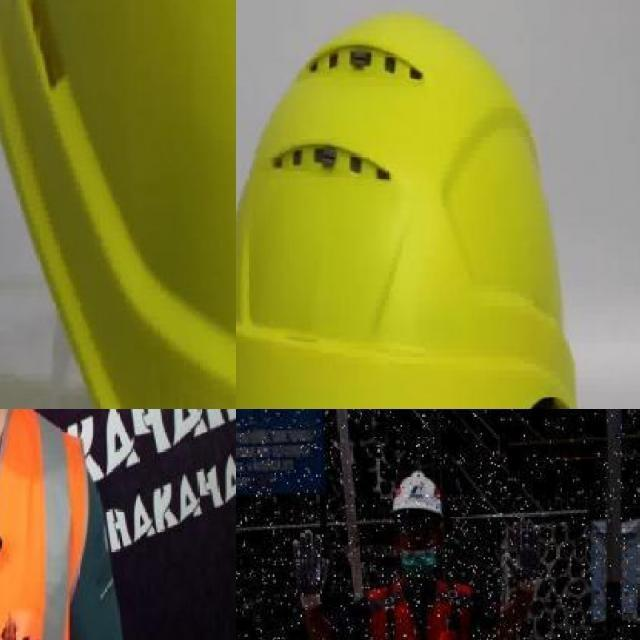apron: (292, 529, 330, 615), (502, 514, 541, 596)
